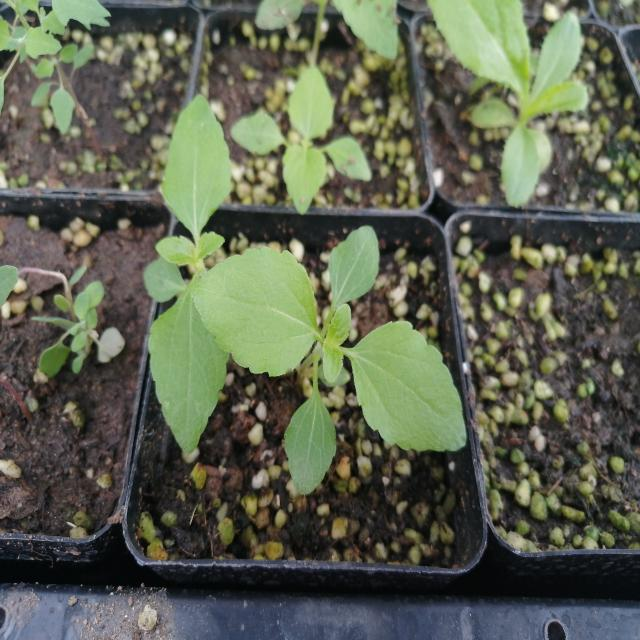billygoat_weed: (217, 206, 446, 502), (106, 79, 247, 483), (237, 54, 374, 205)
